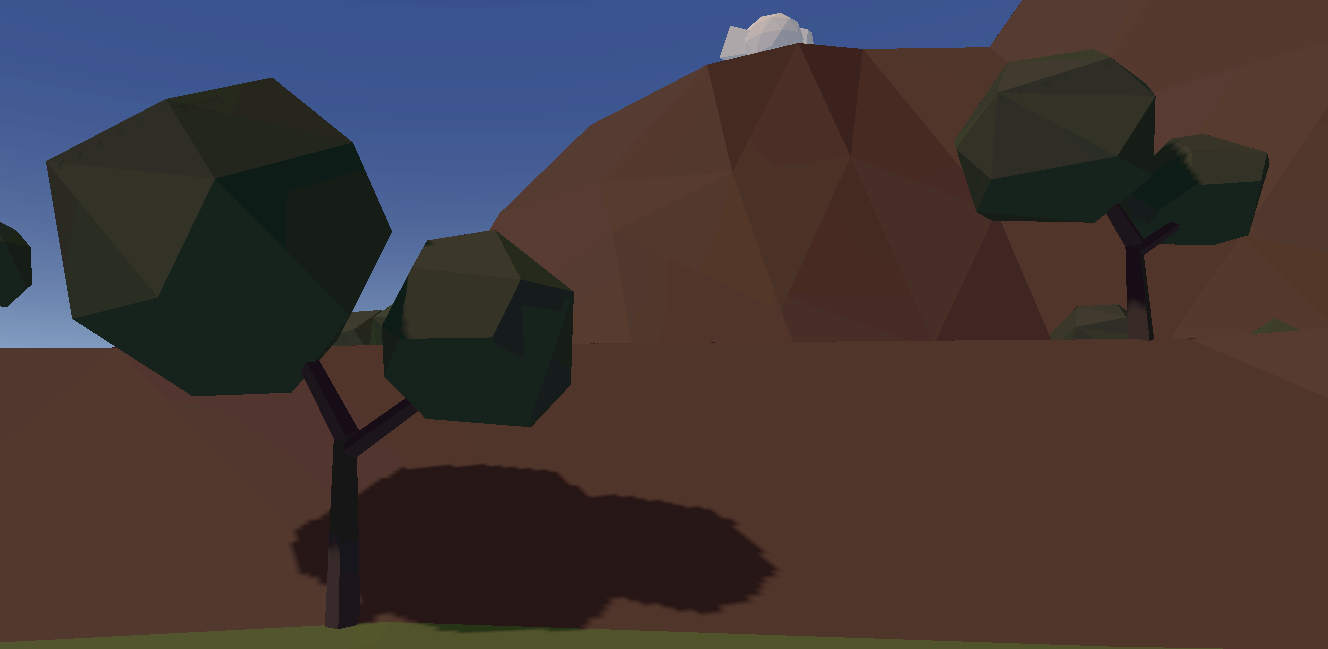tree: (40, 74, 579, 632), (954, 48, 1279, 345)
